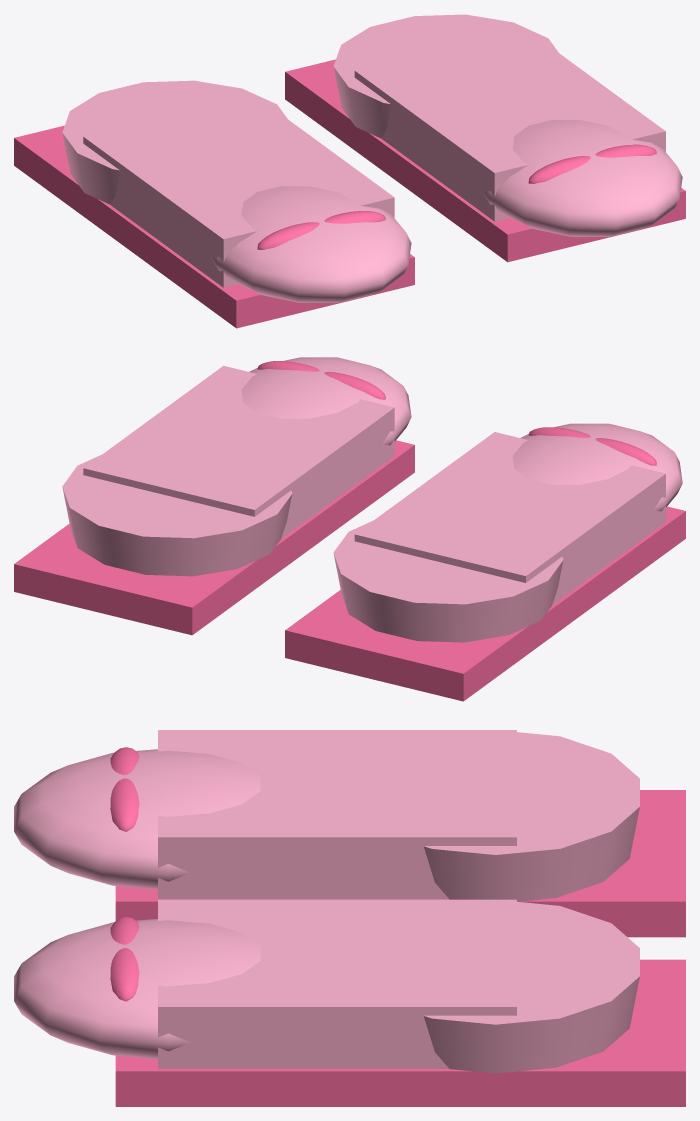
Rendered from shoes_cute_1.glb.
3 views of the same model, one above another, from view 1: azimuth 30°, elevation 25°; view 2: azimuth 150°, elevation 25°; view 3: azimuth 270°, elevation 25° (orthographic). The views are drawn at different scales.
Size of the model in its own units: 0.3696 by 0.0624 by 0.3563.
